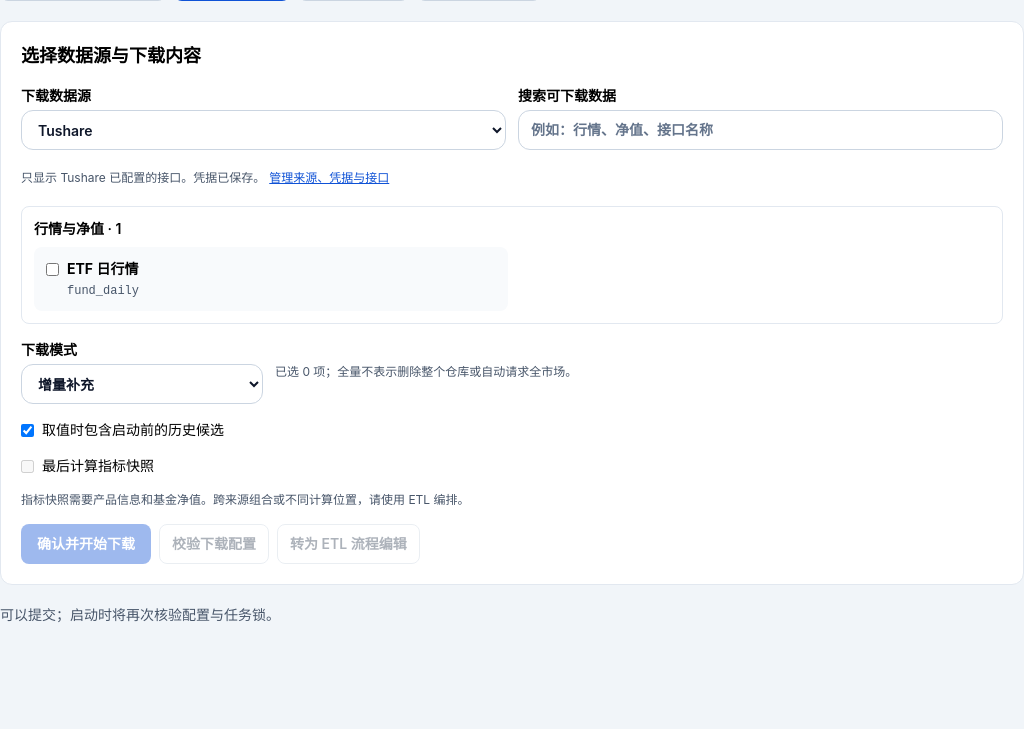
it: 多源下载与 ETL › 全量与日期参数进入真实执行计划，下载和映射是独立步骤
Check: the heading "选择数据源与下载内容" is shown, box x1=21 y1=45 x2=201 y2=66
Click the checkbox labelled "ETF 日行情".
click(52, 270)  # box x1=46 y1=263 x2=59 y2=276
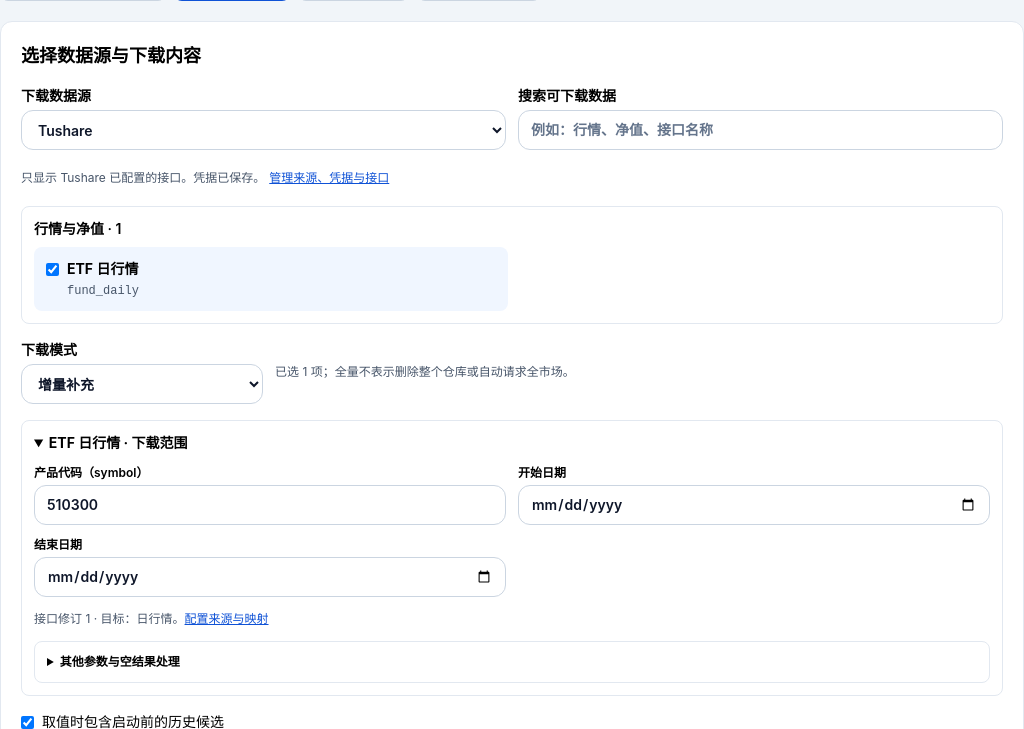
Select "全量重新请求所选范围" in the dropdown labelled "下载模式" at (142, 384), box x1=21 y1=364 x2=263 y2=404
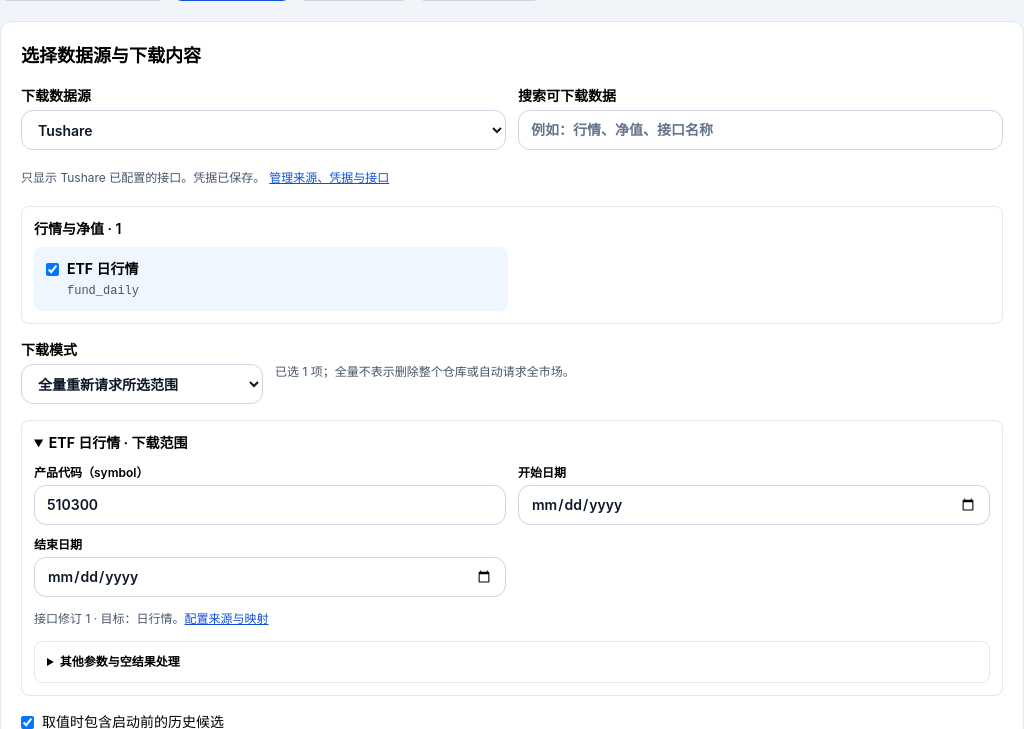
Type "2024-01-01" into the date field labelled "开始日期".
click(754, 505); type("2024-01-01")  # box x1=518 y1=485 x2=990 y2=525
(page scrolled)
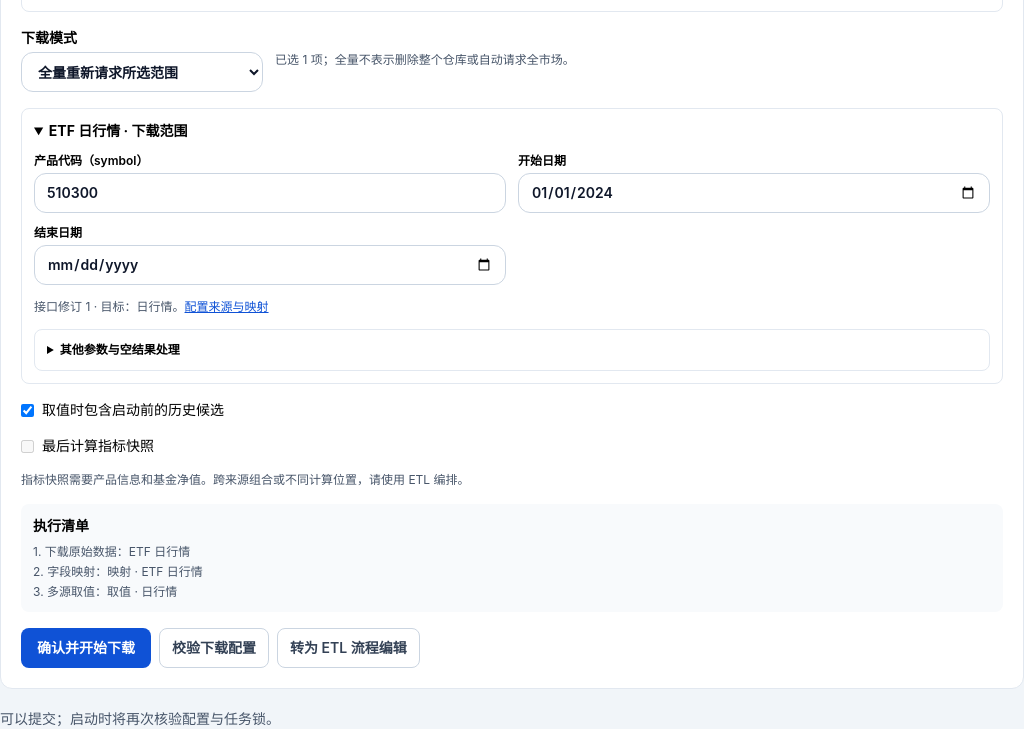
Click the button "确认并开始下载".
click(86, 648)  # box x1=21 y1=628 x2=151 y2=668
(page scrolled)
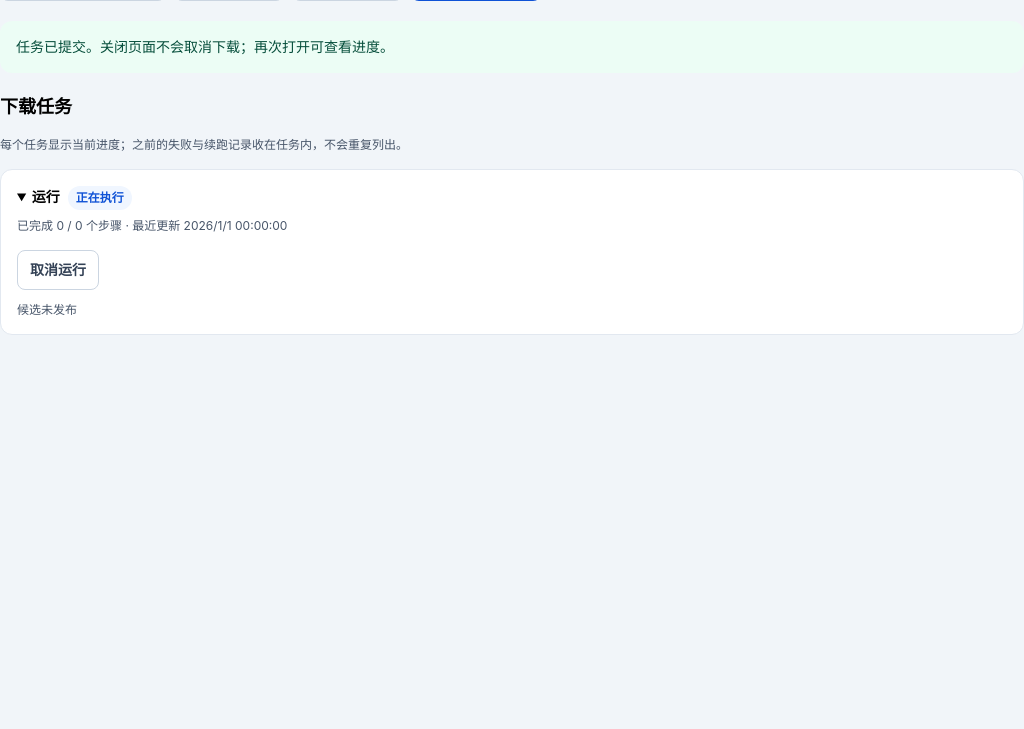
Check: the heading "下载任务" is shown, box x1=0 y1=96 x2=72 y2=117
